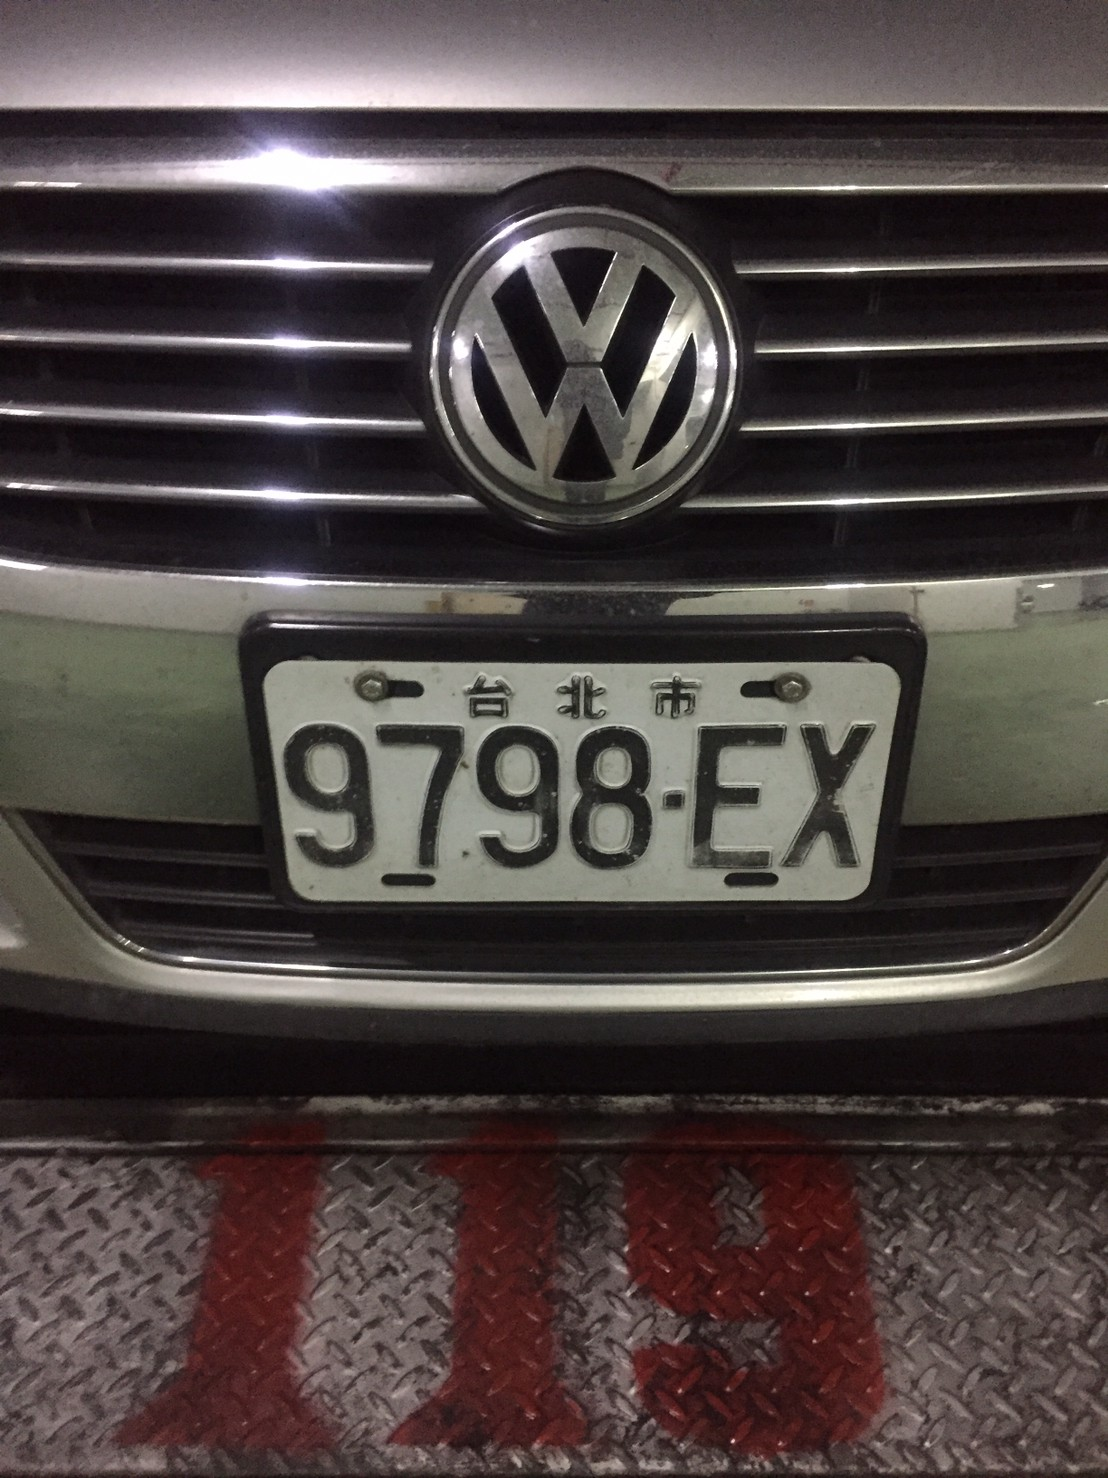LP: (272, 653, 887, 901)
